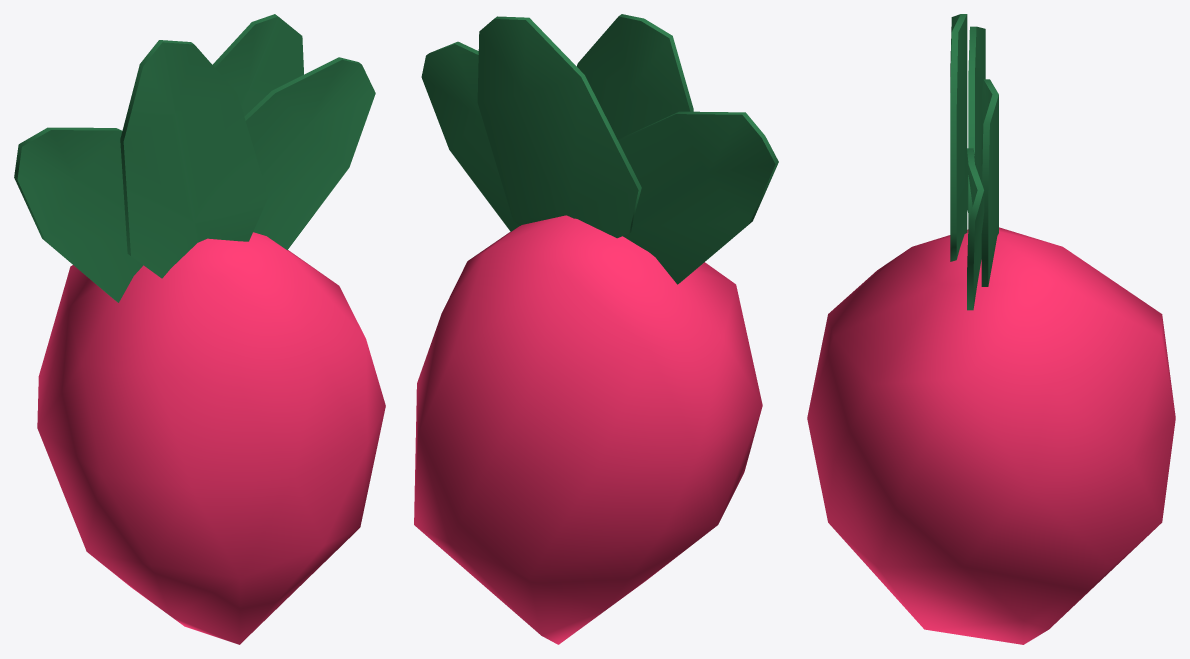
Rendered from beetroot.FBX.
The picture shows the model from 3 angles, left to right: view 1: azimuth 30°, elevation 25°; view 2: azimuth 150°, elevation 25°; view 3: azimuth 270°, elevation 25°; orthographic projection. The views are drawn at different scales.
Visible parts, largest first — view 1: beetroot; view 2: beetroot; view 3: beetroot.
Part boxes in pixels (x1=…): beetroot: x1=14, y1=14, x2=385, y2=644; beetroot: x1=414, y1=14, x2=778, y2=644; beetroot: x1=807, y1=14, x2=1175, y2=644.
Bounding box in the file's own units: 0.1309 × 0.2173 × 0.12.
1 material, 1 textured.
